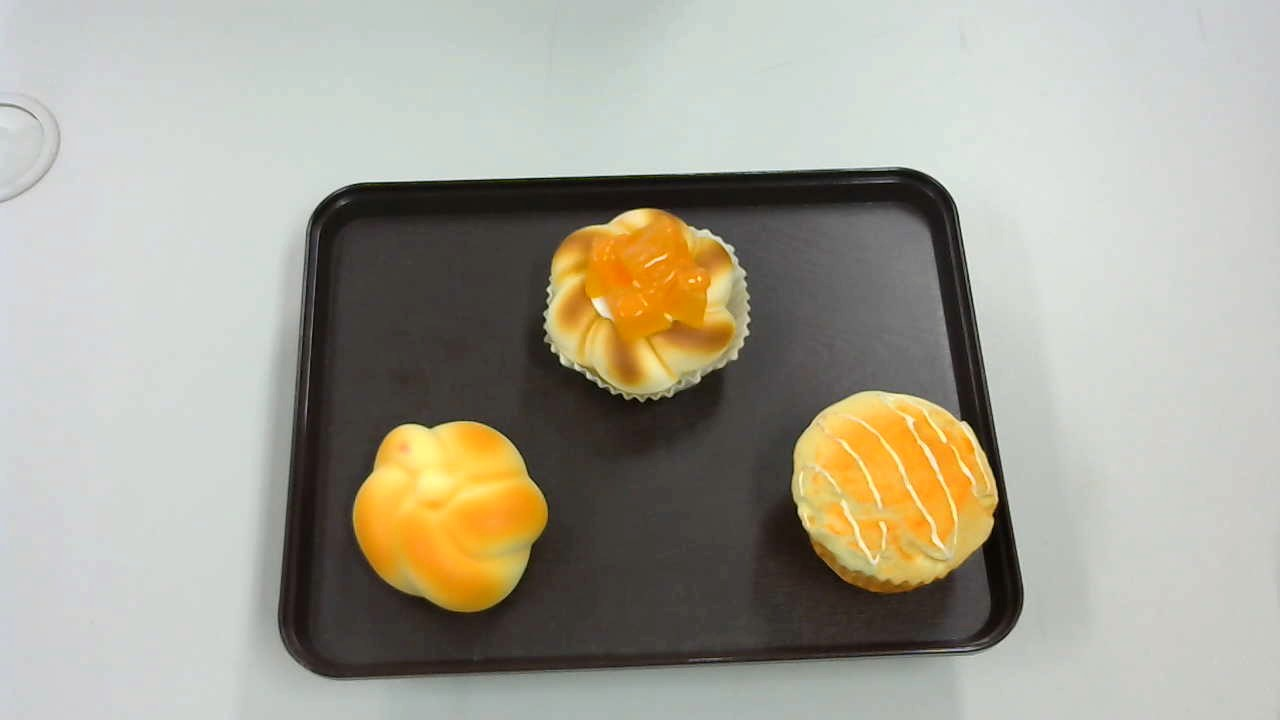croissant: (352, 418, 550, 612)
cupcake: (791, 391, 1000, 594)
mango tart: (542, 207, 751, 404)
